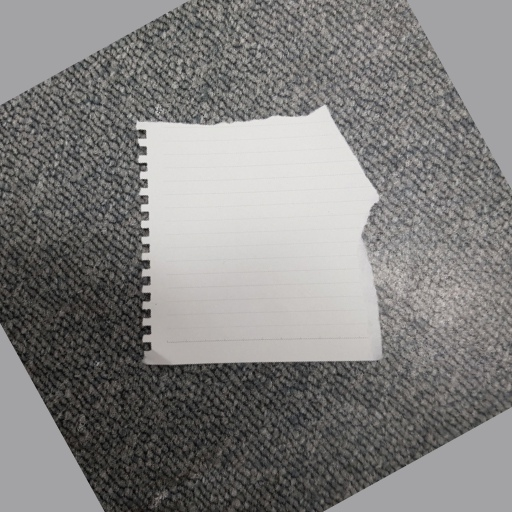Paper_2: (138, 109, 400, 382)
